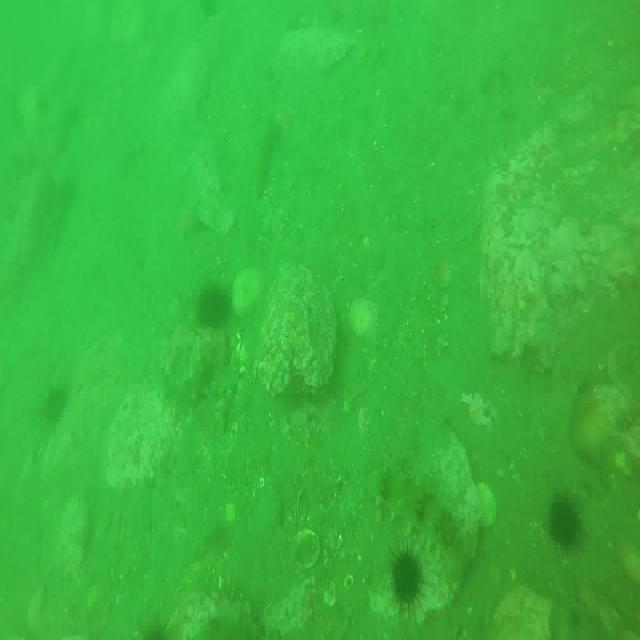echinus: (388, 544, 423, 606), (550, 490, 580, 554), (40, 383, 72, 429), (197, 285, 231, 327)
holothurian: (368, 471, 459, 556)
